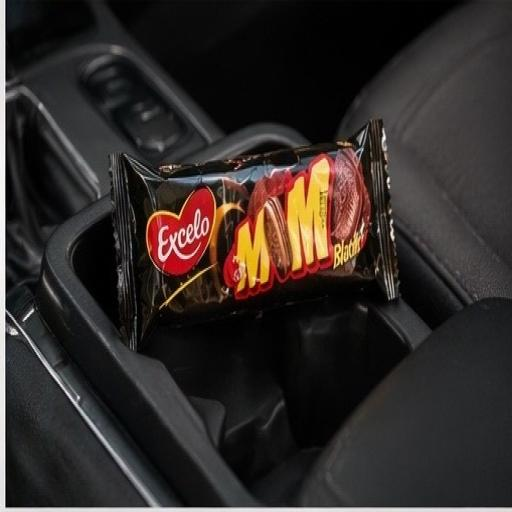MOMO: (79, 76, 420, 388)
